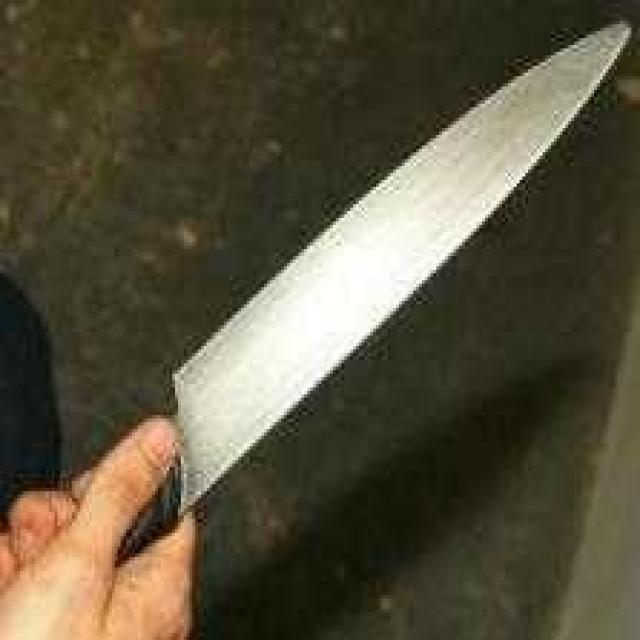Knife: (68, 14, 640, 596)
